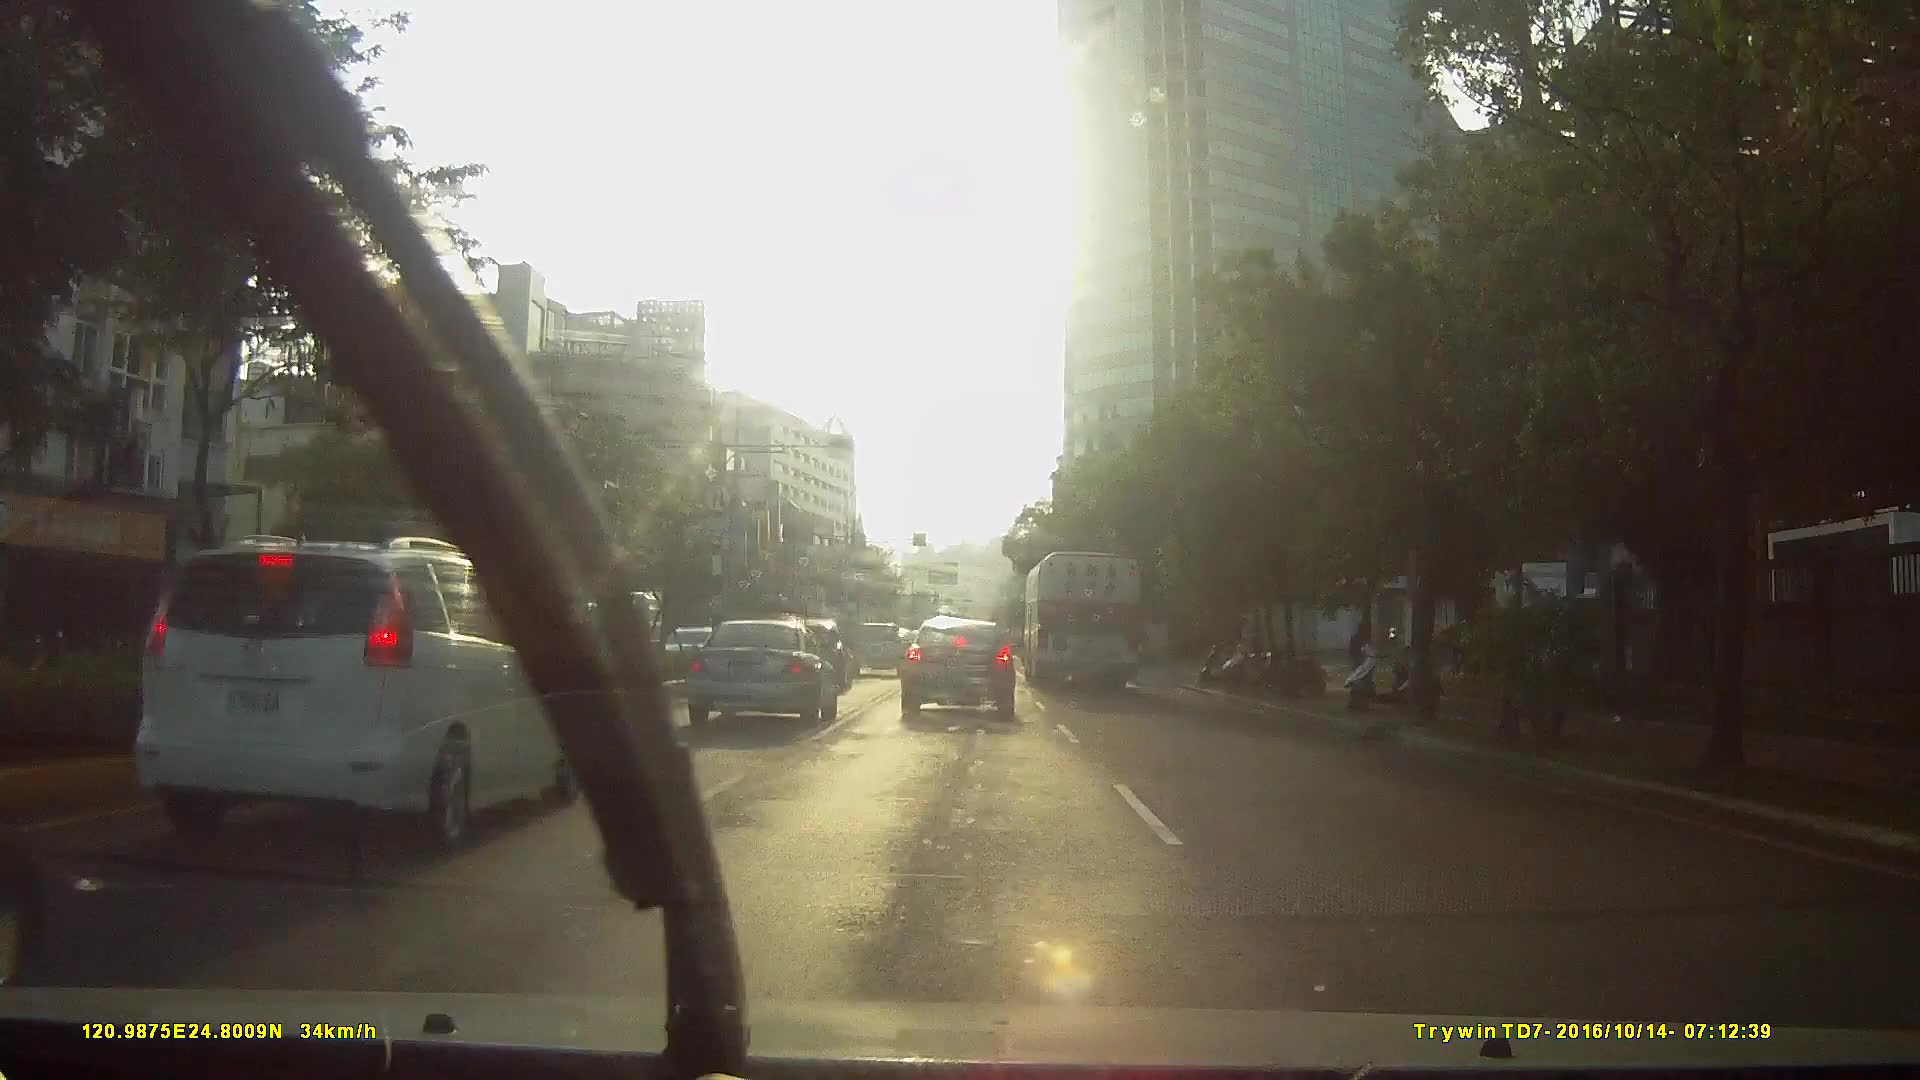vehicle: (117, 527, 592, 866), (251, 556, 684, 868), (1021, 541, 1143, 691), (675, 616, 835, 731), (897, 615, 1018, 723), (560, 588, 655, 670), (848, 620, 902, 674)
